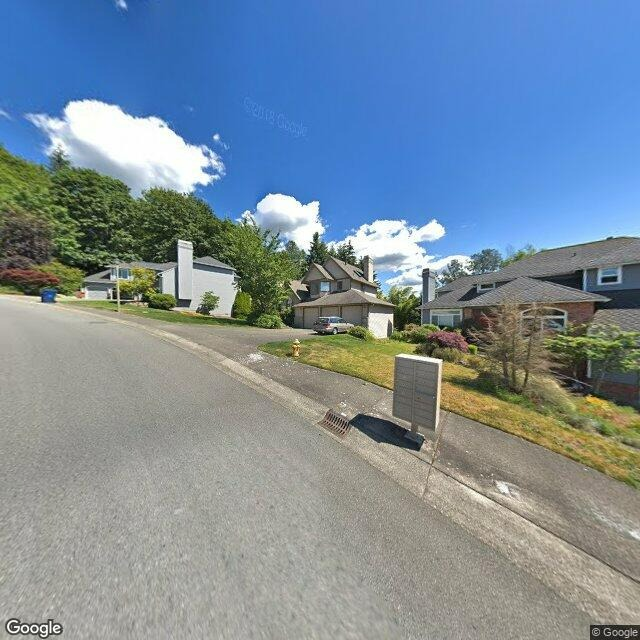hydrant: (283, 337, 306, 357)
